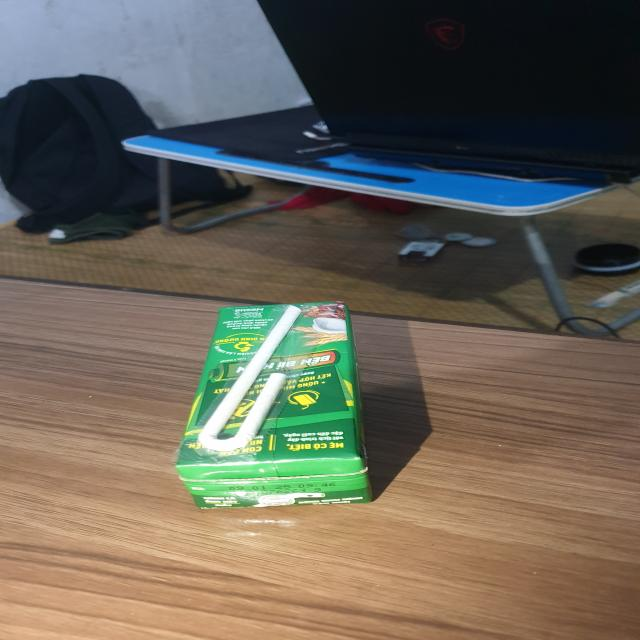Milo: (168, 301, 375, 513)
